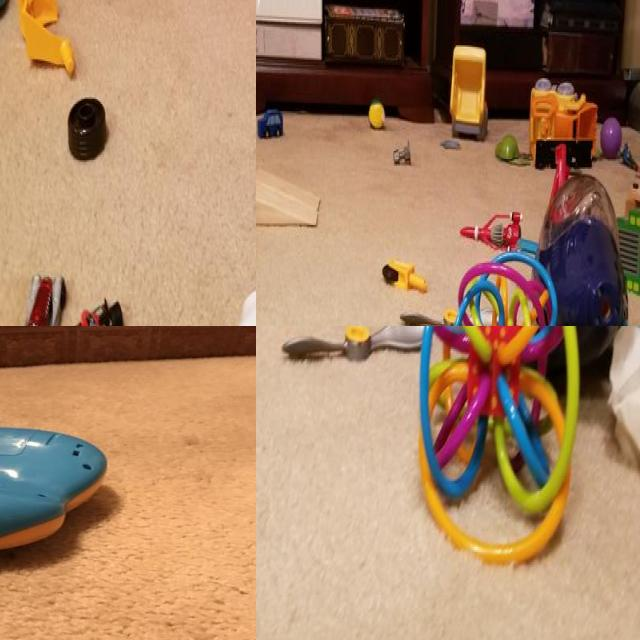toy: (415, 326, 571, 559), (0, 406, 108, 640), (532, 168, 627, 326), (532, 75, 597, 163), (276, 326, 427, 363), (19, 0, 77, 81), (5, 259, 65, 326), (450, 40, 489, 140), (459, 205, 525, 257), (78, 277, 138, 326), (66, 96, 108, 163), (619, 175, 640, 307), (378, 246, 427, 302), (534, 128, 594, 170), (233, 272, 256, 326), (600, 113, 624, 161), (256, 101, 284, 142), (392, 137, 416, 172), (367, 97, 386, 141), (617, 139, 639, 177), (496, 130, 521, 161), (440, 132, 464, 158)
